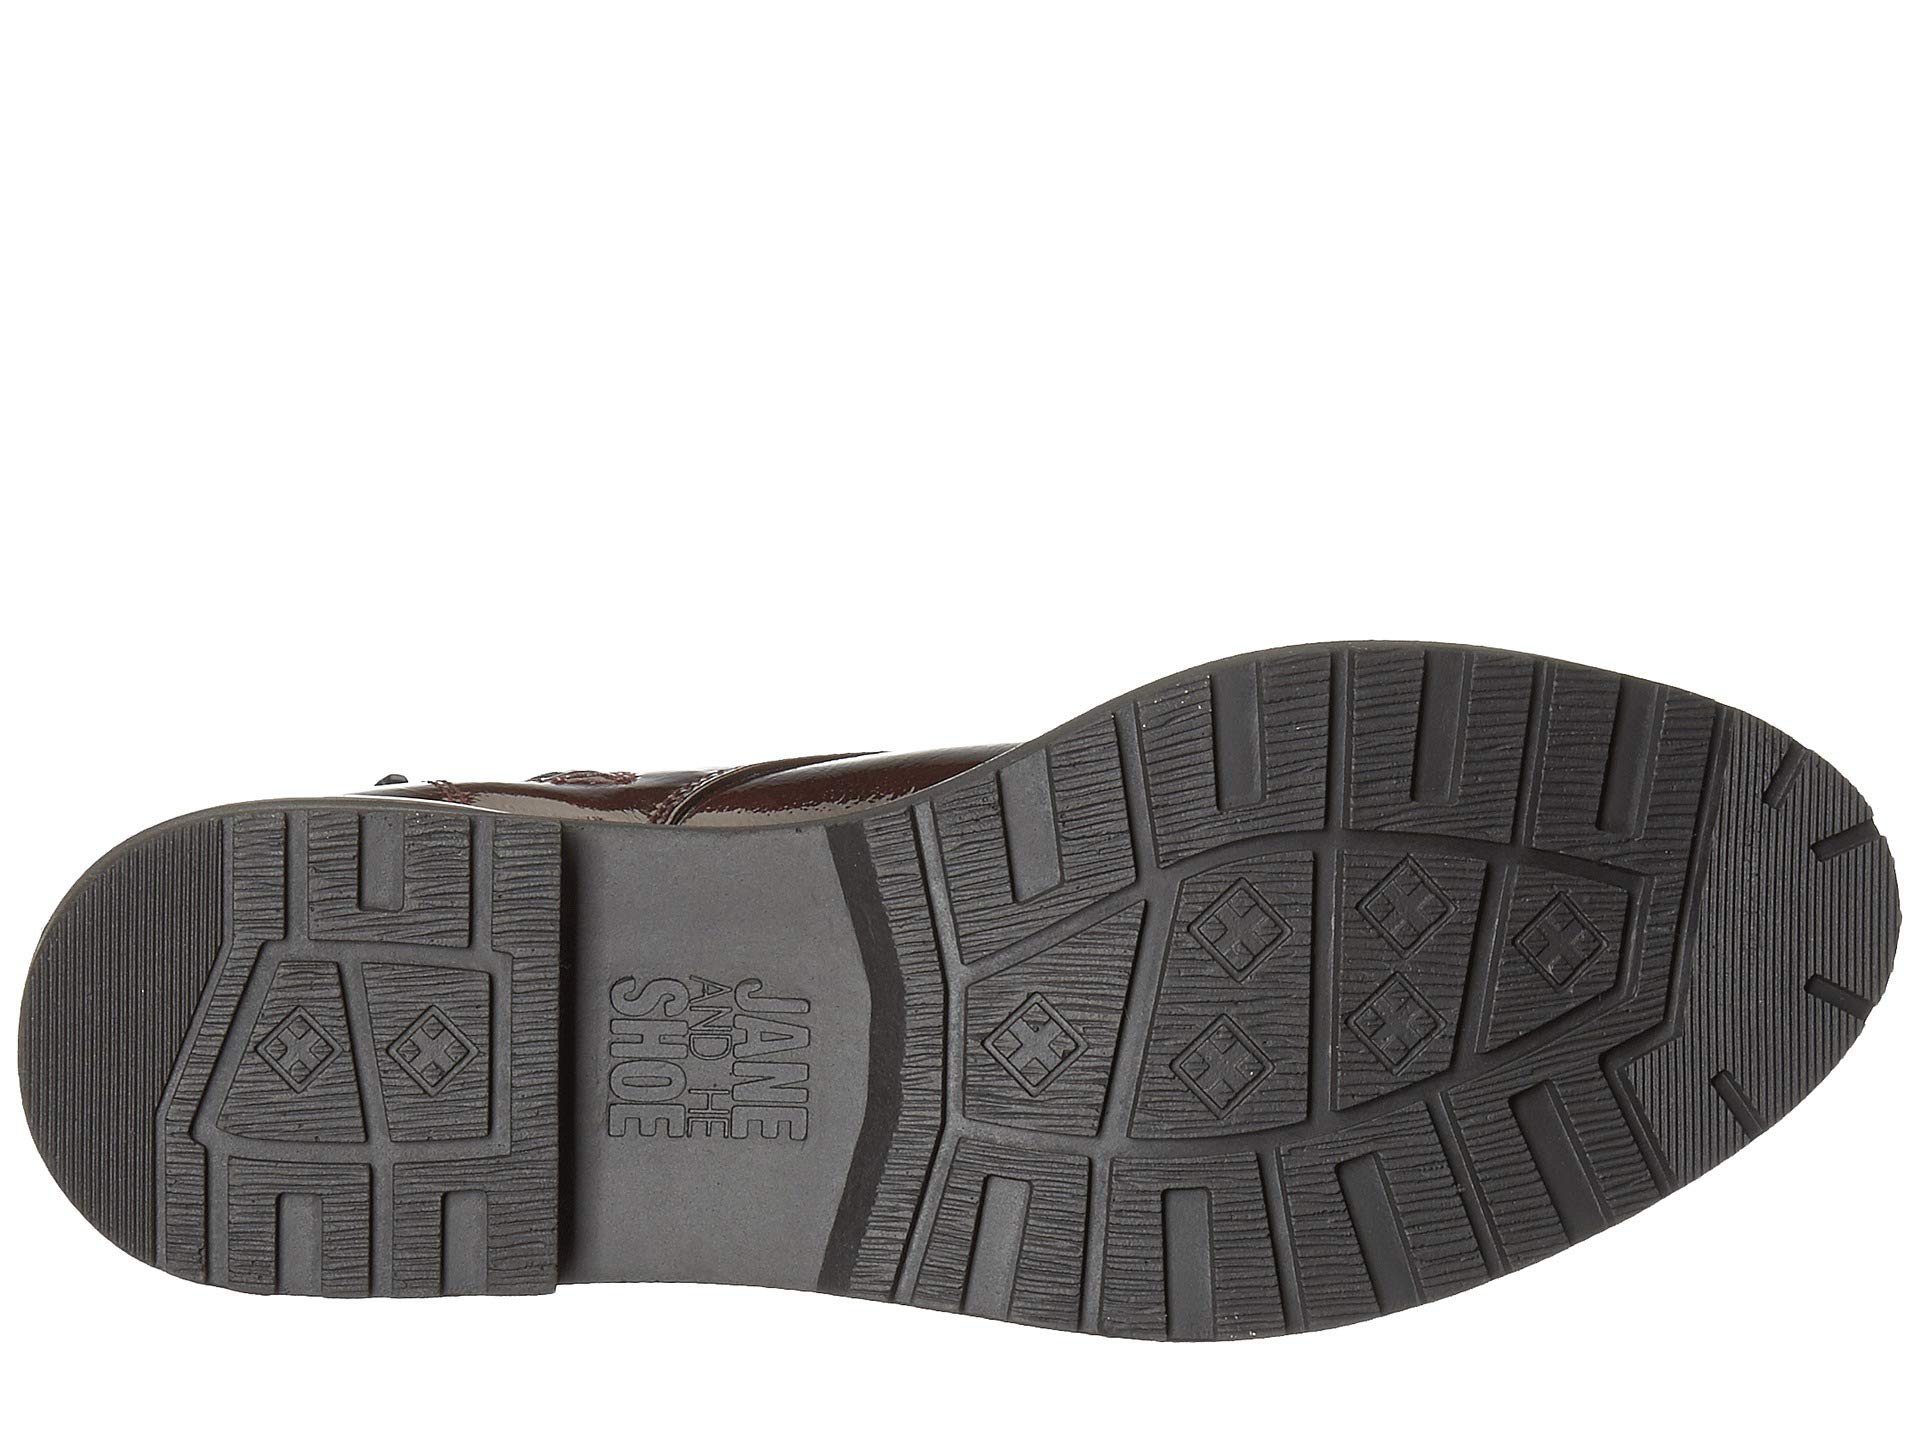circle: (584, 933, 850, 1186)
line: (962, 1160, 1244, 1339), (222, 1171, 525, 1314), (1134, 1007, 1297, 1142), (1315, 961, 1463, 1109), (1329, 835, 1485, 967), (1160, 850, 1297, 995), (971, 979, 1099, 1130), (59, 902, 184, 1044), (1720, 823, 1846, 964), (1503, 877, 1615, 1019), (1197, 656, 1281, 826), (242, 988, 342, 1115), (386, 1001, 475, 1107)
quad: (962, 1160, 1244, 1339), (222, 1171, 525, 1314), (1154, 871, 1315, 1139), (1336, 833, 1465, 1125), (1134, 1007, 1297, 1142), (1315, 961, 1463, 1109), (1329, 835, 1485, 967), (1160, 850, 1297, 995), (971, 979, 1099, 1130), (1503, 877, 1615, 1019), (1400, 632, 1479, 820), (1197, 656, 1281, 826), (242, 988, 342, 1115), (386, 1001, 475, 1107)
text: (584, 933, 850, 1186)
